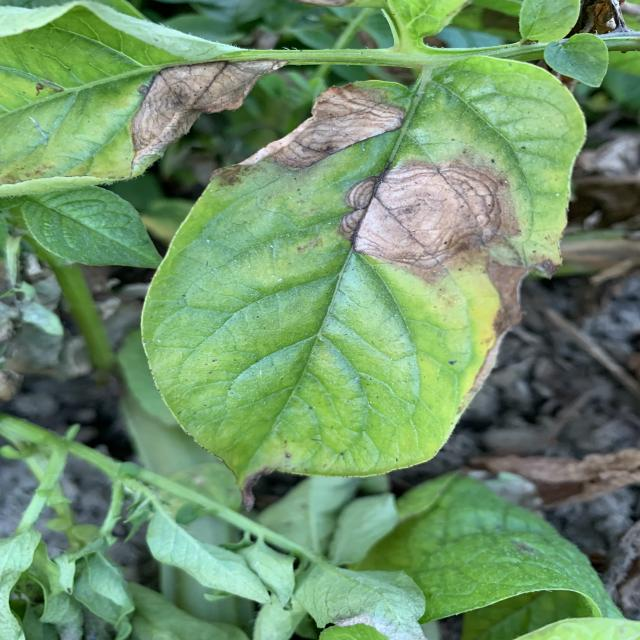lateblight: (353, 165, 518, 270), (132, 60, 287, 169), (272, 85, 405, 168), (487, 259, 530, 335)
